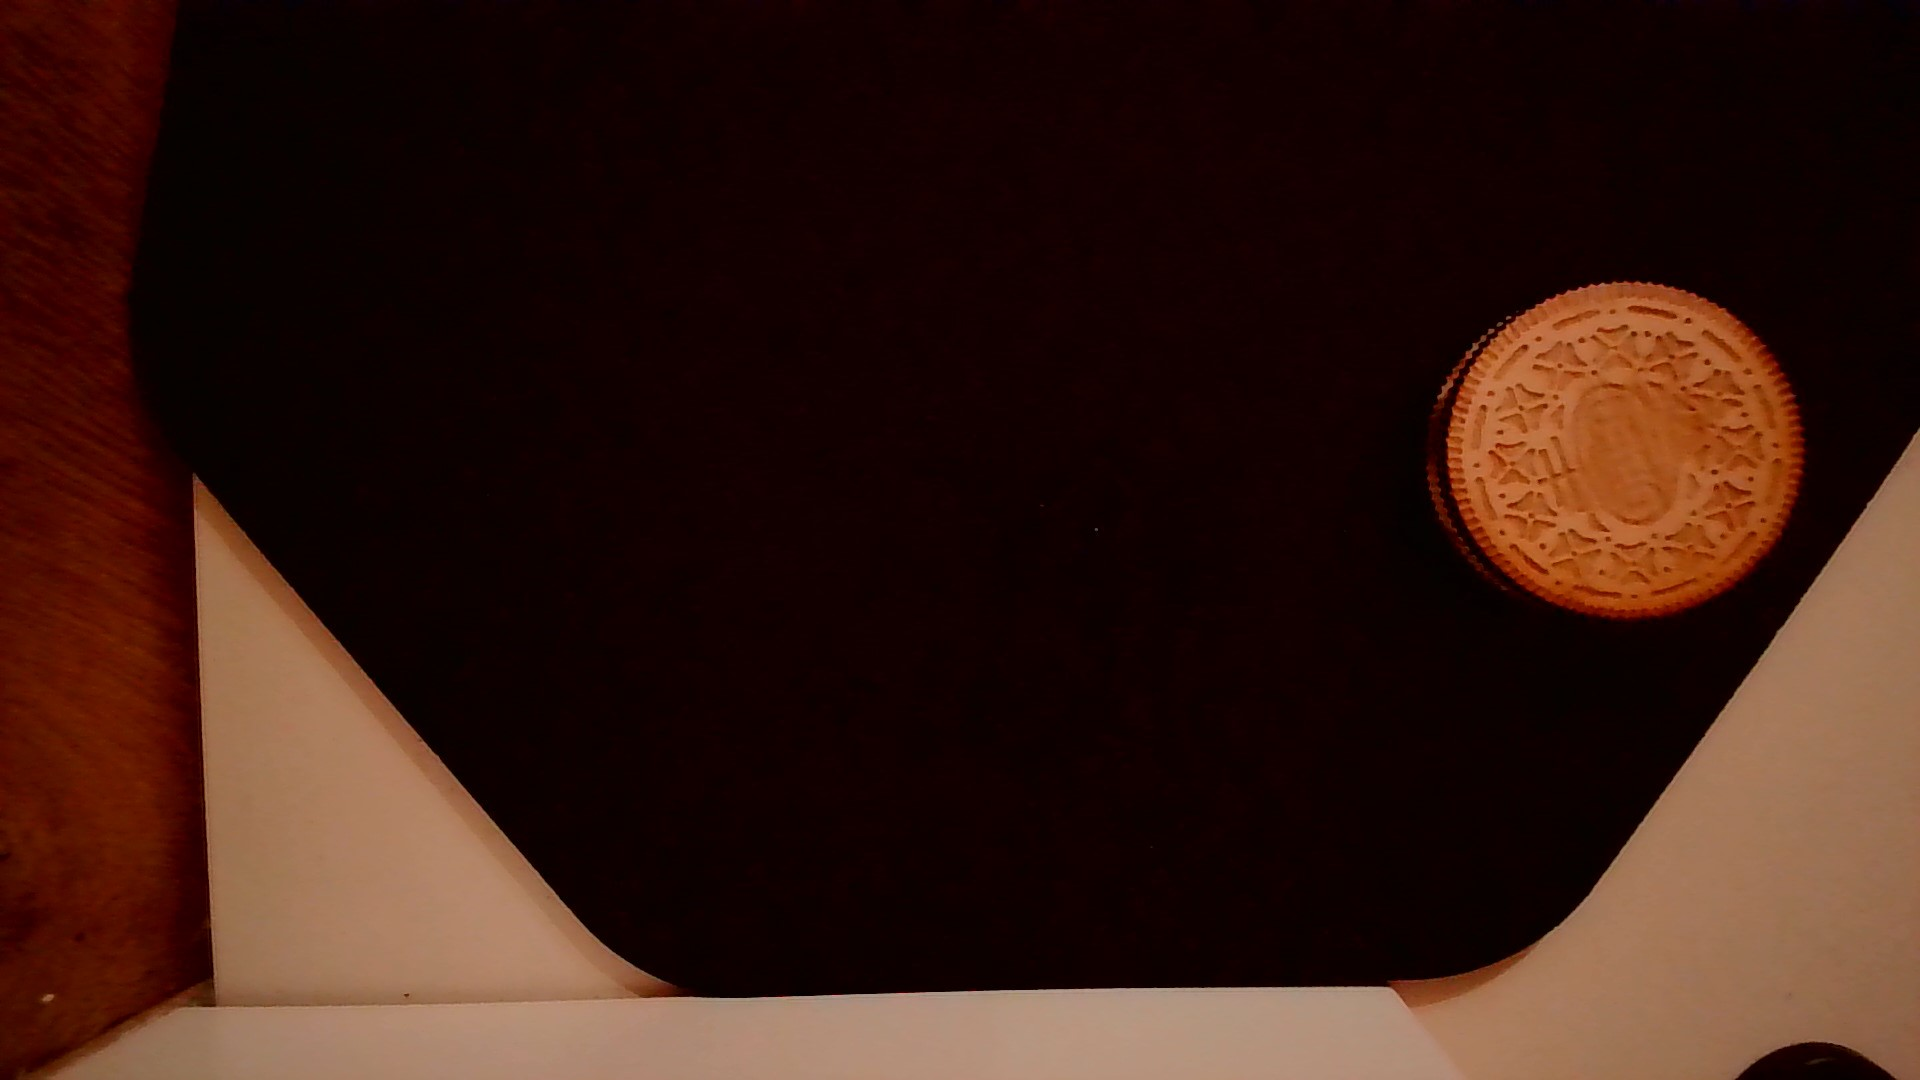Effacé: (1586, 376, 1695, 512)
Oréo: (1418, 268, 1813, 630)
